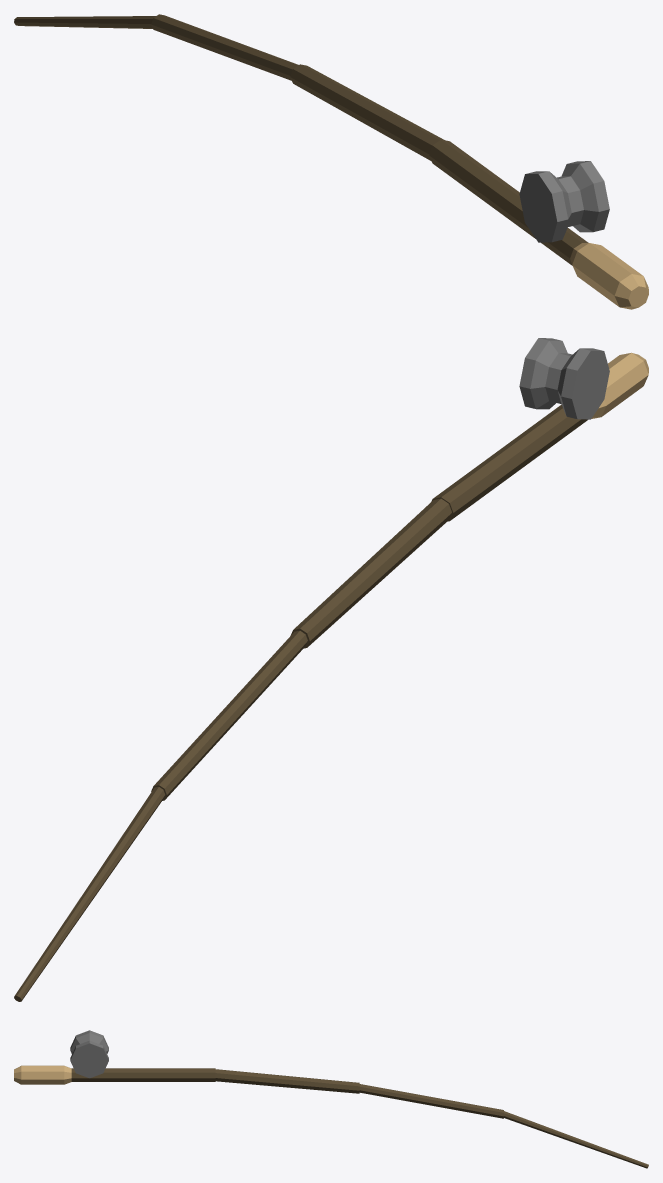
Rendered from fishing_pole.fbx.
3 renders of one model, top to bottom at view 1: azimuth 30°, elevation 25°; view 2: azimuth 150°, elevation 25°; view 3: azimuth 270°, elevation 25°, orthographic. The views are drawn at different scales.
Visible parts, largest first — view 1: Cylinder.025; view 2: Cylinder.025; view 3: Cylinder.025.
Part boxes in pixels (x1,y1,x2,y2): Cylinder.025: (14,14,648,309); Cylinder.025: (14,338,648,1001); Cylinder.025: (14,1030,648,1168).
Size of the model in its own units: 0.1075 by 0.5045 by 2.2.
